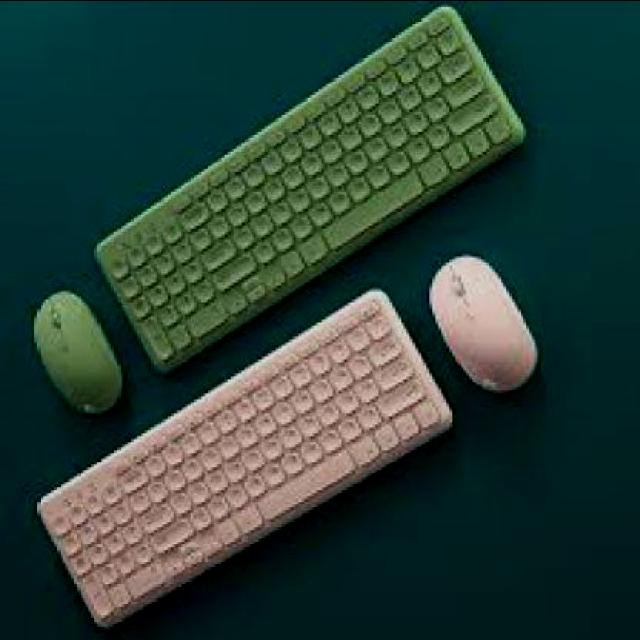keyboard: (91, 3, 528, 372), (30, 283, 456, 631)
